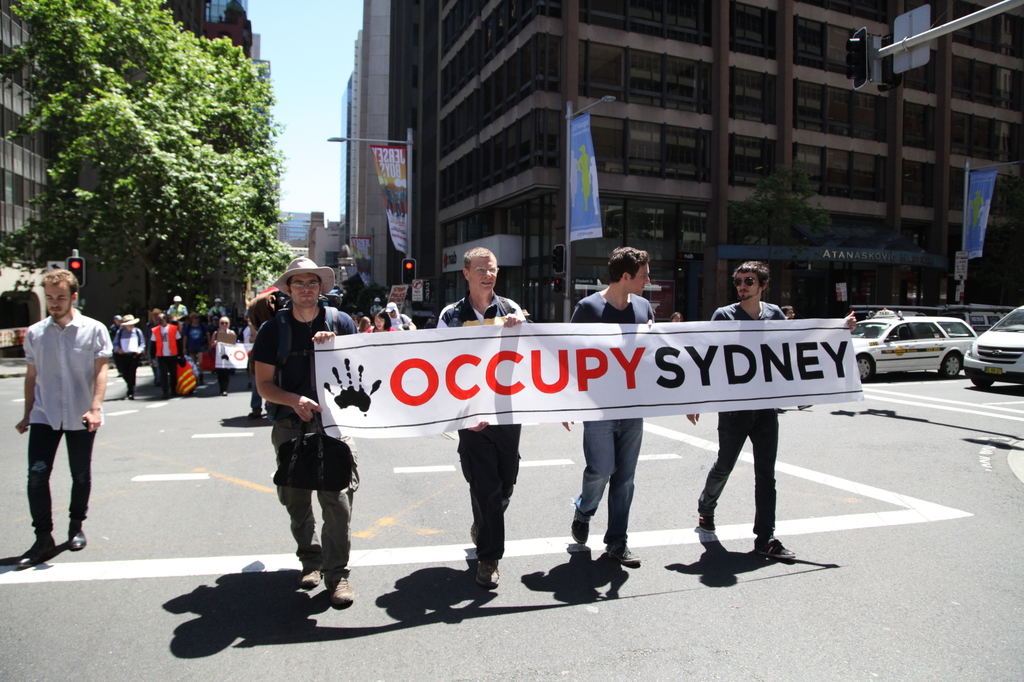cars: (847, 312, 1013, 390), (970, 296, 1023, 388)
